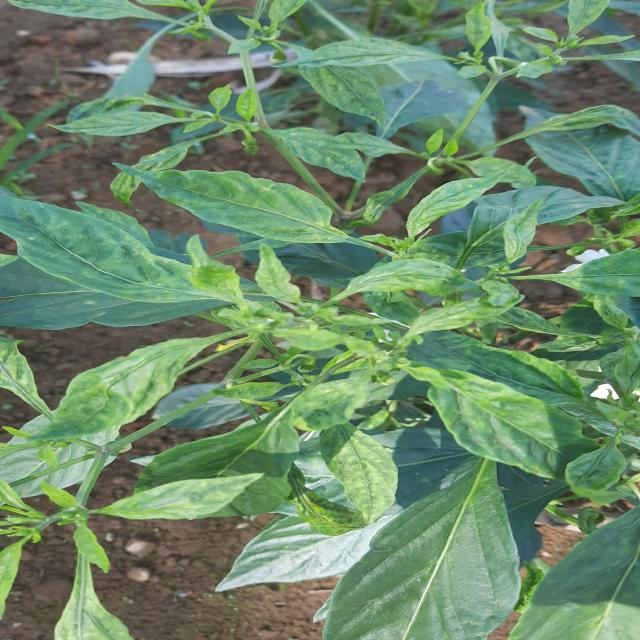thrips: (34, 320, 222, 443), (151, 158, 358, 244), (429, 365, 589, 472)
